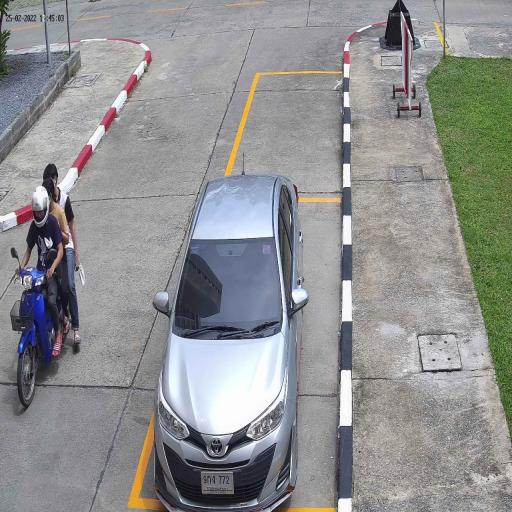car: (152, 171, 306, 506)
motorcycle: (9, 266, 56, 410)
